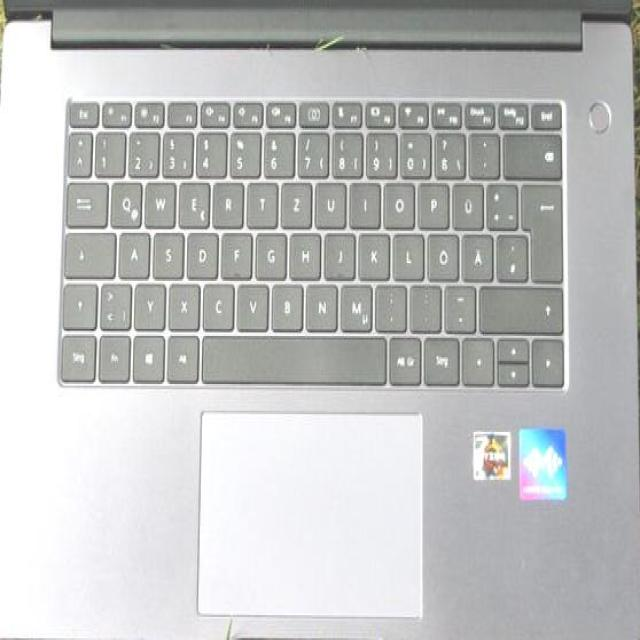0: (397, 126, 429, 174)
1: (92, 126, 123, 174)
2: (125, 127, 157, 173)
3: (159, 127, 191, 173)
4: (194, 126, 224, 174)
5: (227, 126, 258, 174)
6: (261, 126, 292, 174)
7: (295, 126, 327, 174)
8: (328, 126, 360, 174)
9: (363, 126, 395, 174)
a: (116, 226, 148, 276)
accent: (466, 126, 497, 174)
ae: (459, 228, 491, 278)
alt-left: (164, 331, 196, 381)
altgr-right: (385, 333, 419, 383)
b: (268, 277, 302, 327)
c: (200, 277, 232, 327)
caret: (66, 127, 90, 173)
comma: (371, 279, 405, 327)
d: (184, 226, 216, 276)
del: (500, 128, 559, 176)
e: (176, 176, 208, 224)
enter: (518, 178, 560, 279)
f: (218, 228, 250, 276)
g: (253, 228, 284, 276)
h: (287, 228, 319, 276)
hash: (493, 228, 525, 278)
i: (347, 176, 379, 224)
j: (321, 228, 353, 276)
k: (356, 228, 388, 278)
keyboard: (51, 89, 575, 400)
l: (390, 228, 421, 276)
less: (96, 277, 130, 327)
m: (337, 279, 371, 329)
minus: (440, 281, 474, 329)
n: (303, 279, 336, 329)
o: (380, 176, 413, 226)
oe: (425, 228, 457, 278)
p: (416, 176, 448, 226)
plus: (483, 178, 515, 226)
point: (407, 279, 439, 327)
q: (108, 176, 140, 224)
r: (210, 176, 241, 224)
s: (150, 226, 181, 276)
shift-left: (60, 278, 95, 326)
shift-lock: (62, 226, 113, 274)
shift-right: (476, 279, 560, 331)
space: (199, 331, 385, 382)
ss: (432, 126, 464, 174)
strg-left: (57, 329, 94, 379)
strg-right: (421, 333, 458, 383)
t: (243, 176, 275, 224)
tab: (63, 176, 106, 224)
u: (312, 176, 344, 226)
ue: (449, 178, 481, 226)
v: (233, 277, 267, 327)
w: (141, 176, 173, 224)
x: (165, 277, 197, 327)
y: (131, 277, 163, 327)
z: (278, 176, 310, 224)
